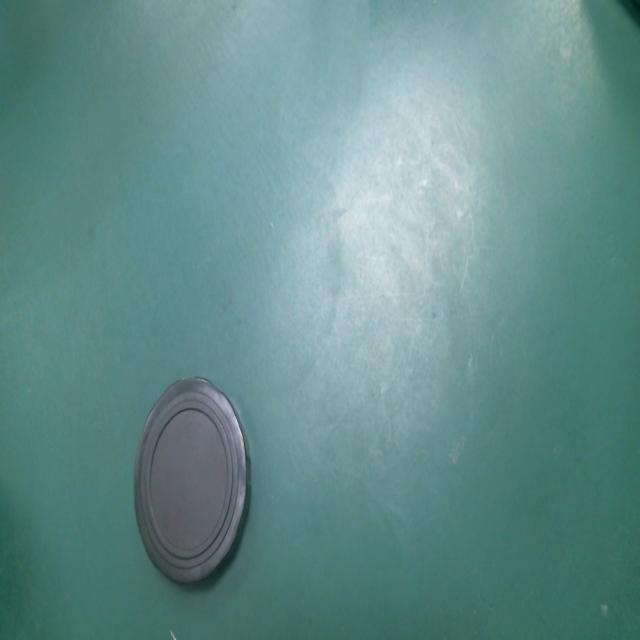cover: (121, 360, 264, 598)
